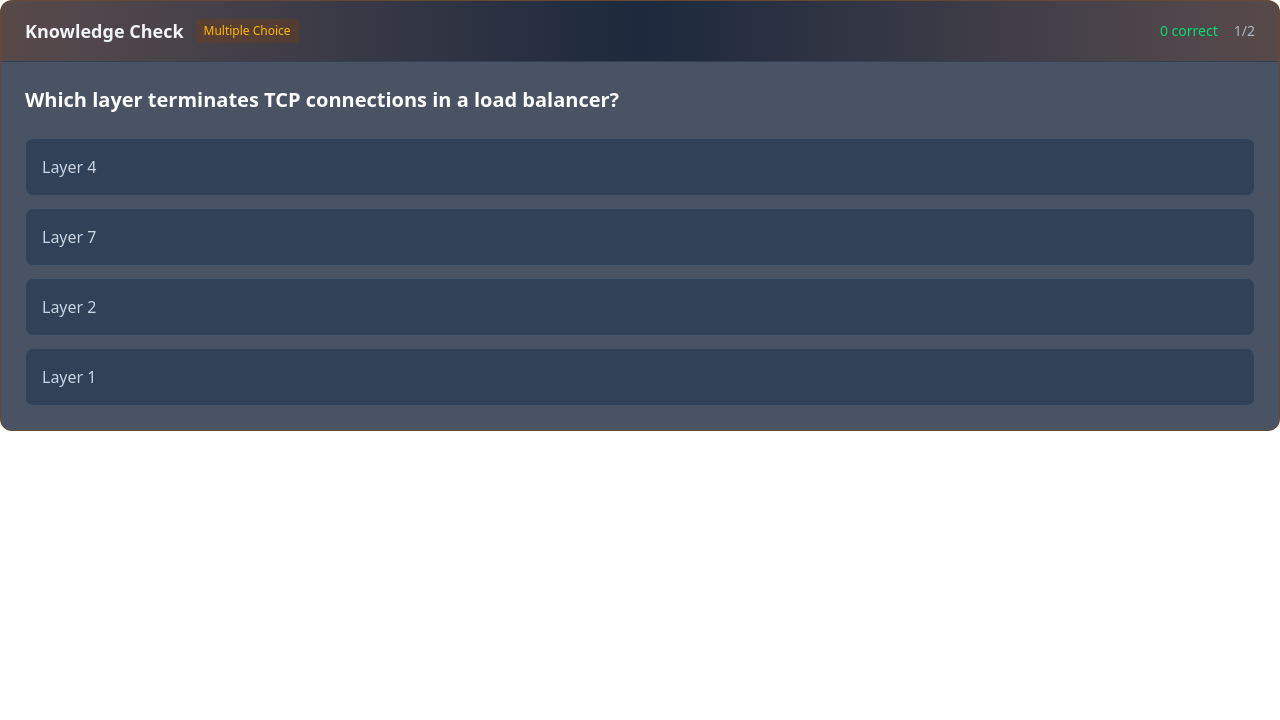
Scenario: Quiz › multiple choice › advances to the next question and resets the answer state
Click the radio button with aria-label "Option 2: Layer 7". click: (69, 237)
box: [25, 208, 1255, 266]
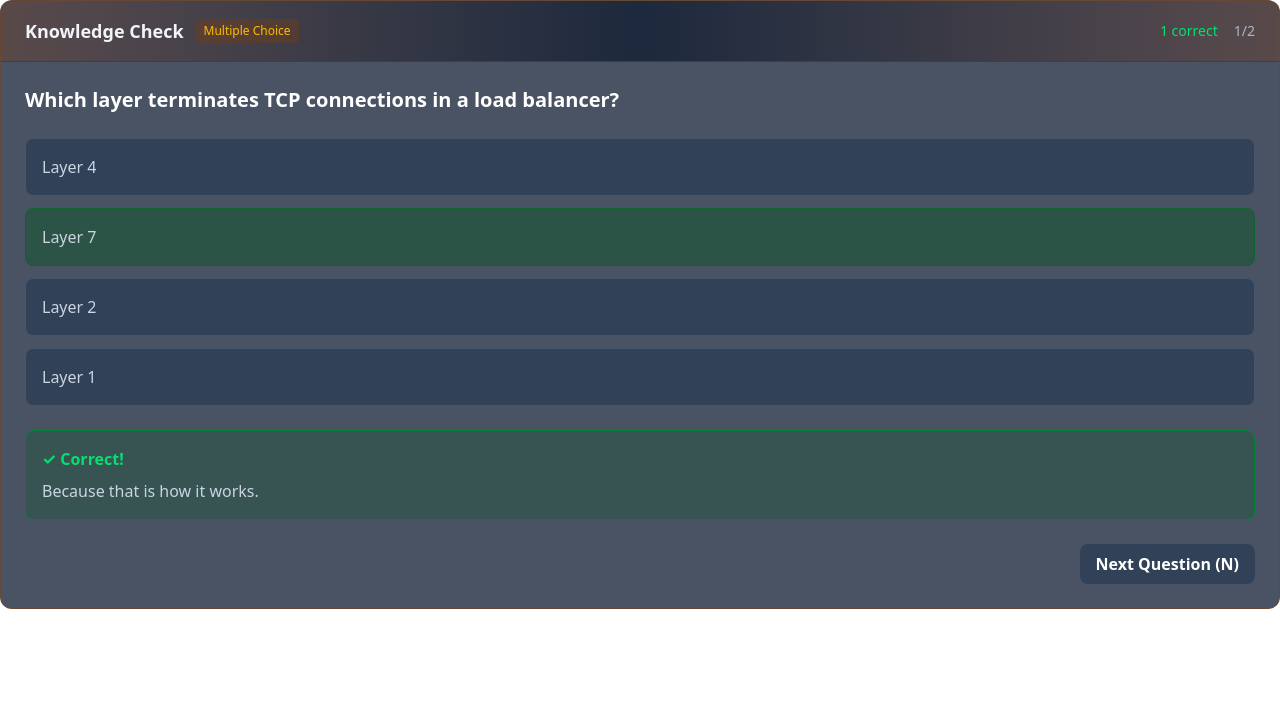
Click the button "Next Question (N)". click: (1167, 564)
box: [1080, 544, 1255, 584]
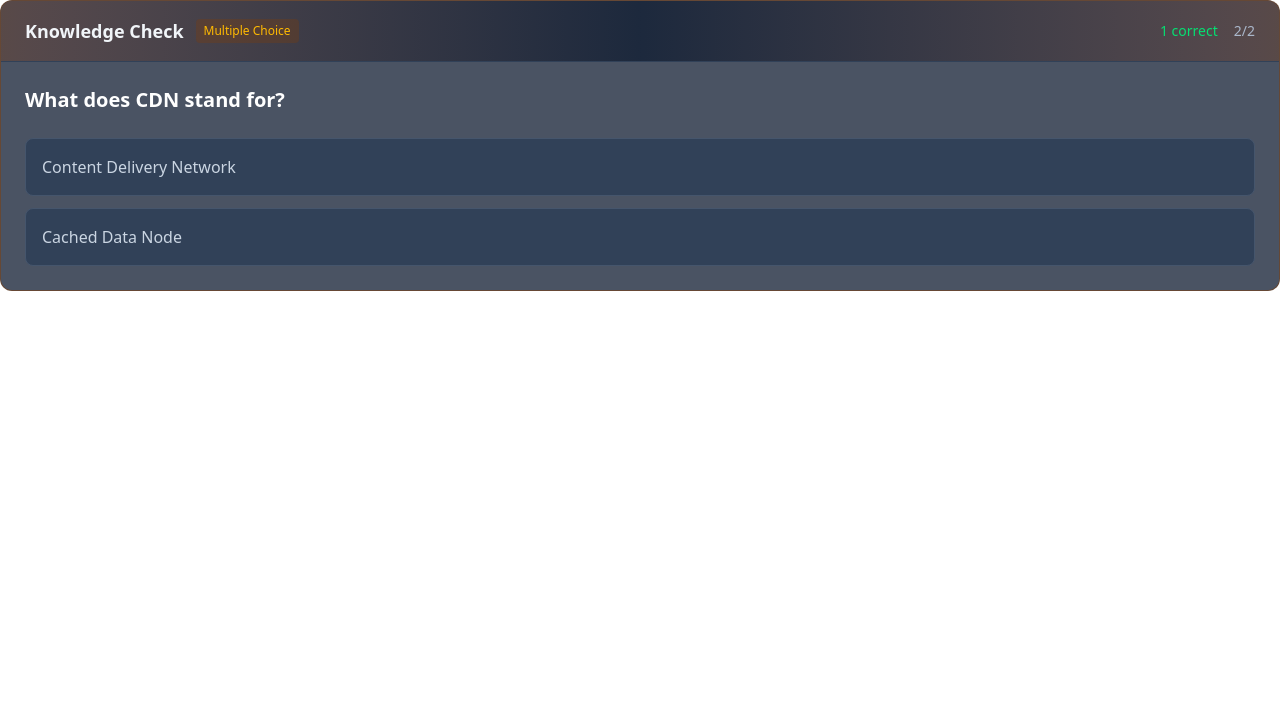
Expected: the heading "What does CDN stand for?" is shown, [25, 86, 285, 113]
Expected: the text "2/2" is shown, [1234, 21, 1255, 41]
Expected: the text "✓ Correct!" is gone
